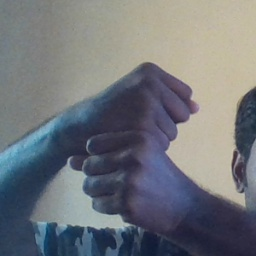G: (66, 55, 201, 226)
